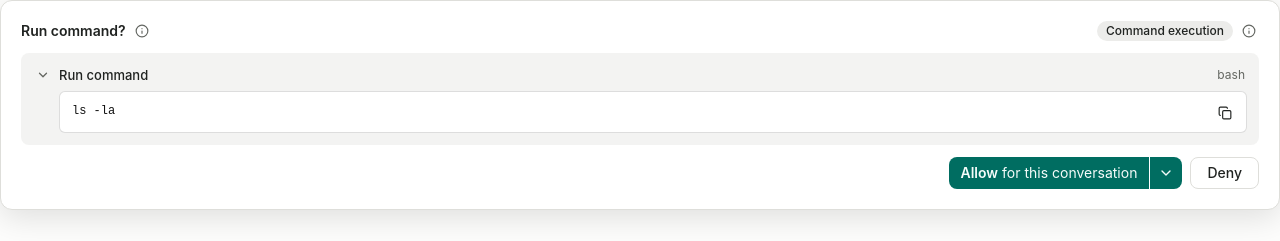
Test case: PermissionApprovalControls interactions › uses option scope metadata and labels session access accurately
The width and height of the screenshot is (1280, 241).
Expected: the button with test id "allow-primary" reads "Allow for this conversation", [948,156,1149,188]
Click the button with test id "scope-chevron".
click(1166, 172)  # box [1150,156,1182,188]
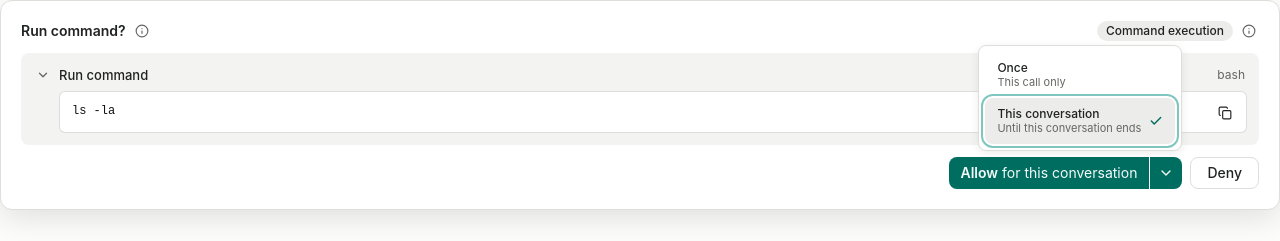
Result: the menu item "This conversation Until this conversation ends" is shown at [985,98,1175,144]
